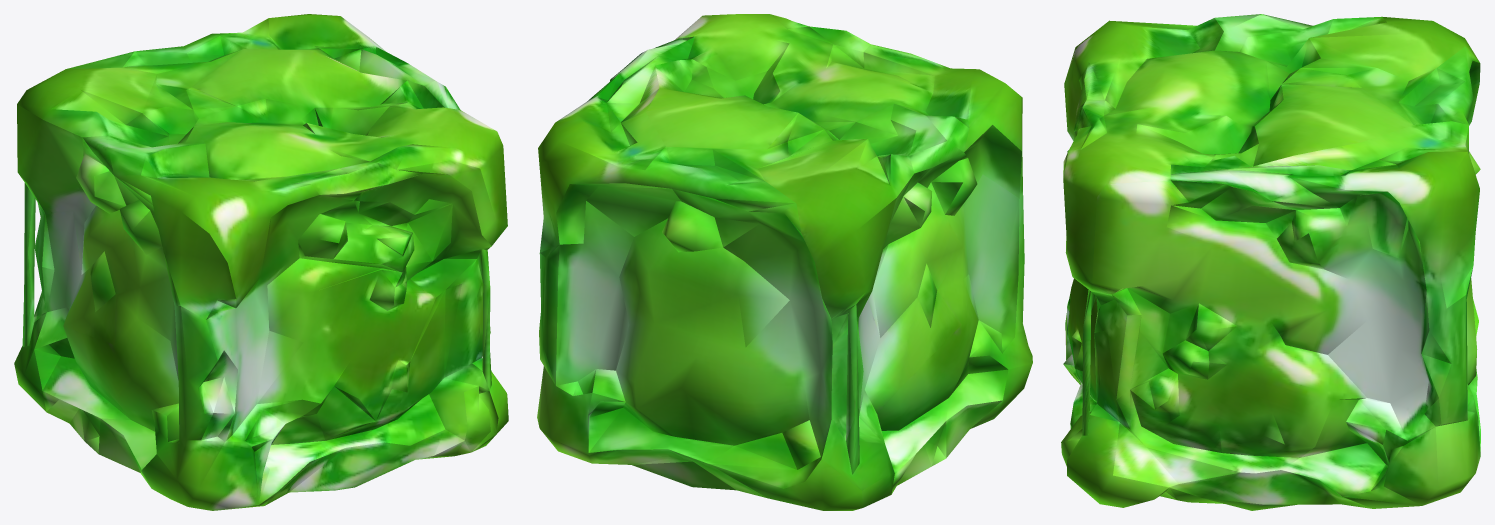
Rendered from slimeCube.glb.
3 views of the same model, side by side, from view 1: azimuth 30°, elevation 25°; view 2: azimuth 150°, elevation 25°; view 3: azimuth 270°, elevation 25° (orthographic). The views are drawn at different scales.
Visible parts, largest first — view 1: model; view 2: model; view 3: model.
Part boxes in pixels (x1=…): model: x1=14, y1=14, x2=508, y2=510; model: x1=537, y1=14, x2=1032, y2=510; model: x1=1061, y1=14, x2=1480, y2=510.
Bounding box in the file's own units: 1.89 × 1.73 × 1.9.
Materials: 1 (1 with a texture image).
